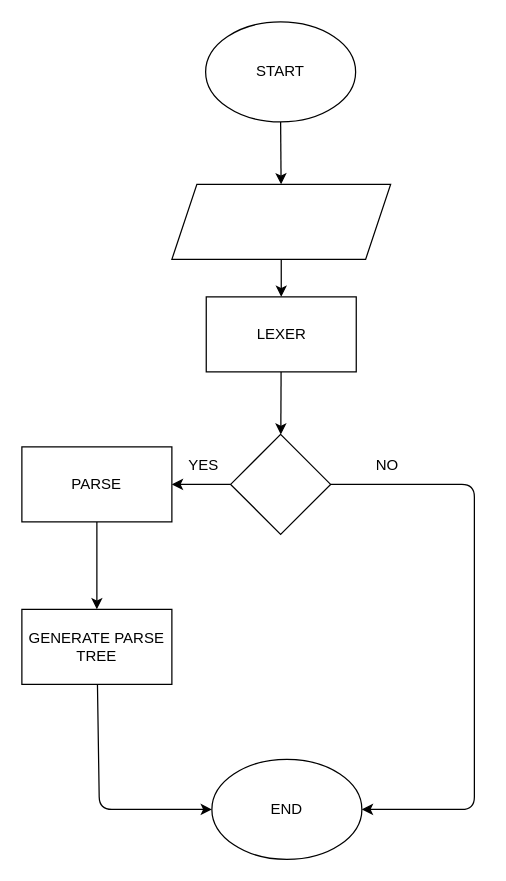
Image size: 506x881. Some labels were removed from this diagram. The centre of each missing label's shape, as x and y in pixels:
INPUT EXPRESSION: point (281, 221)
VALID?: point (280, 483)
